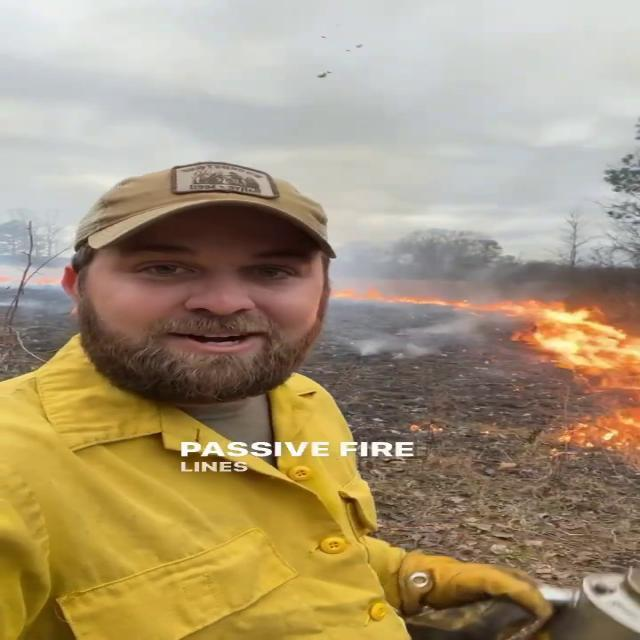Fire: (491, 294, 640, 456)
